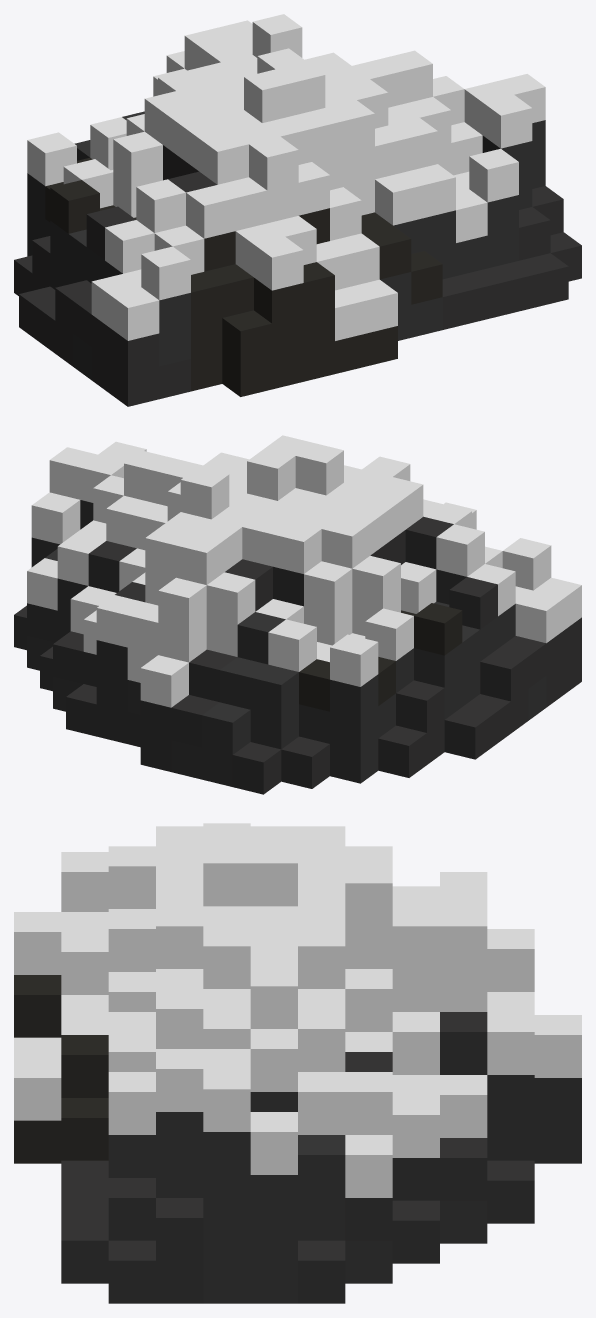
Rendered from MediumStoneSnow.obj.
The picture shows the model from 3 angles, top to bottom: view 1: azimuth 30°, elevation 25°; view 2: azimuth 150°, elevation 25°; view 3: azimuth 270°, elevation 25°; orthographic projection. The views are drawn at different scales.
Bounding box in the file's own units: 1.5 × 0.7 × 1.2.
Materials: 1 (1 with a texture image).
